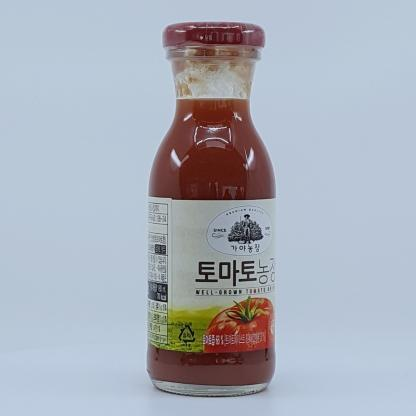-------180ML: (146, 21, 276, 396)
